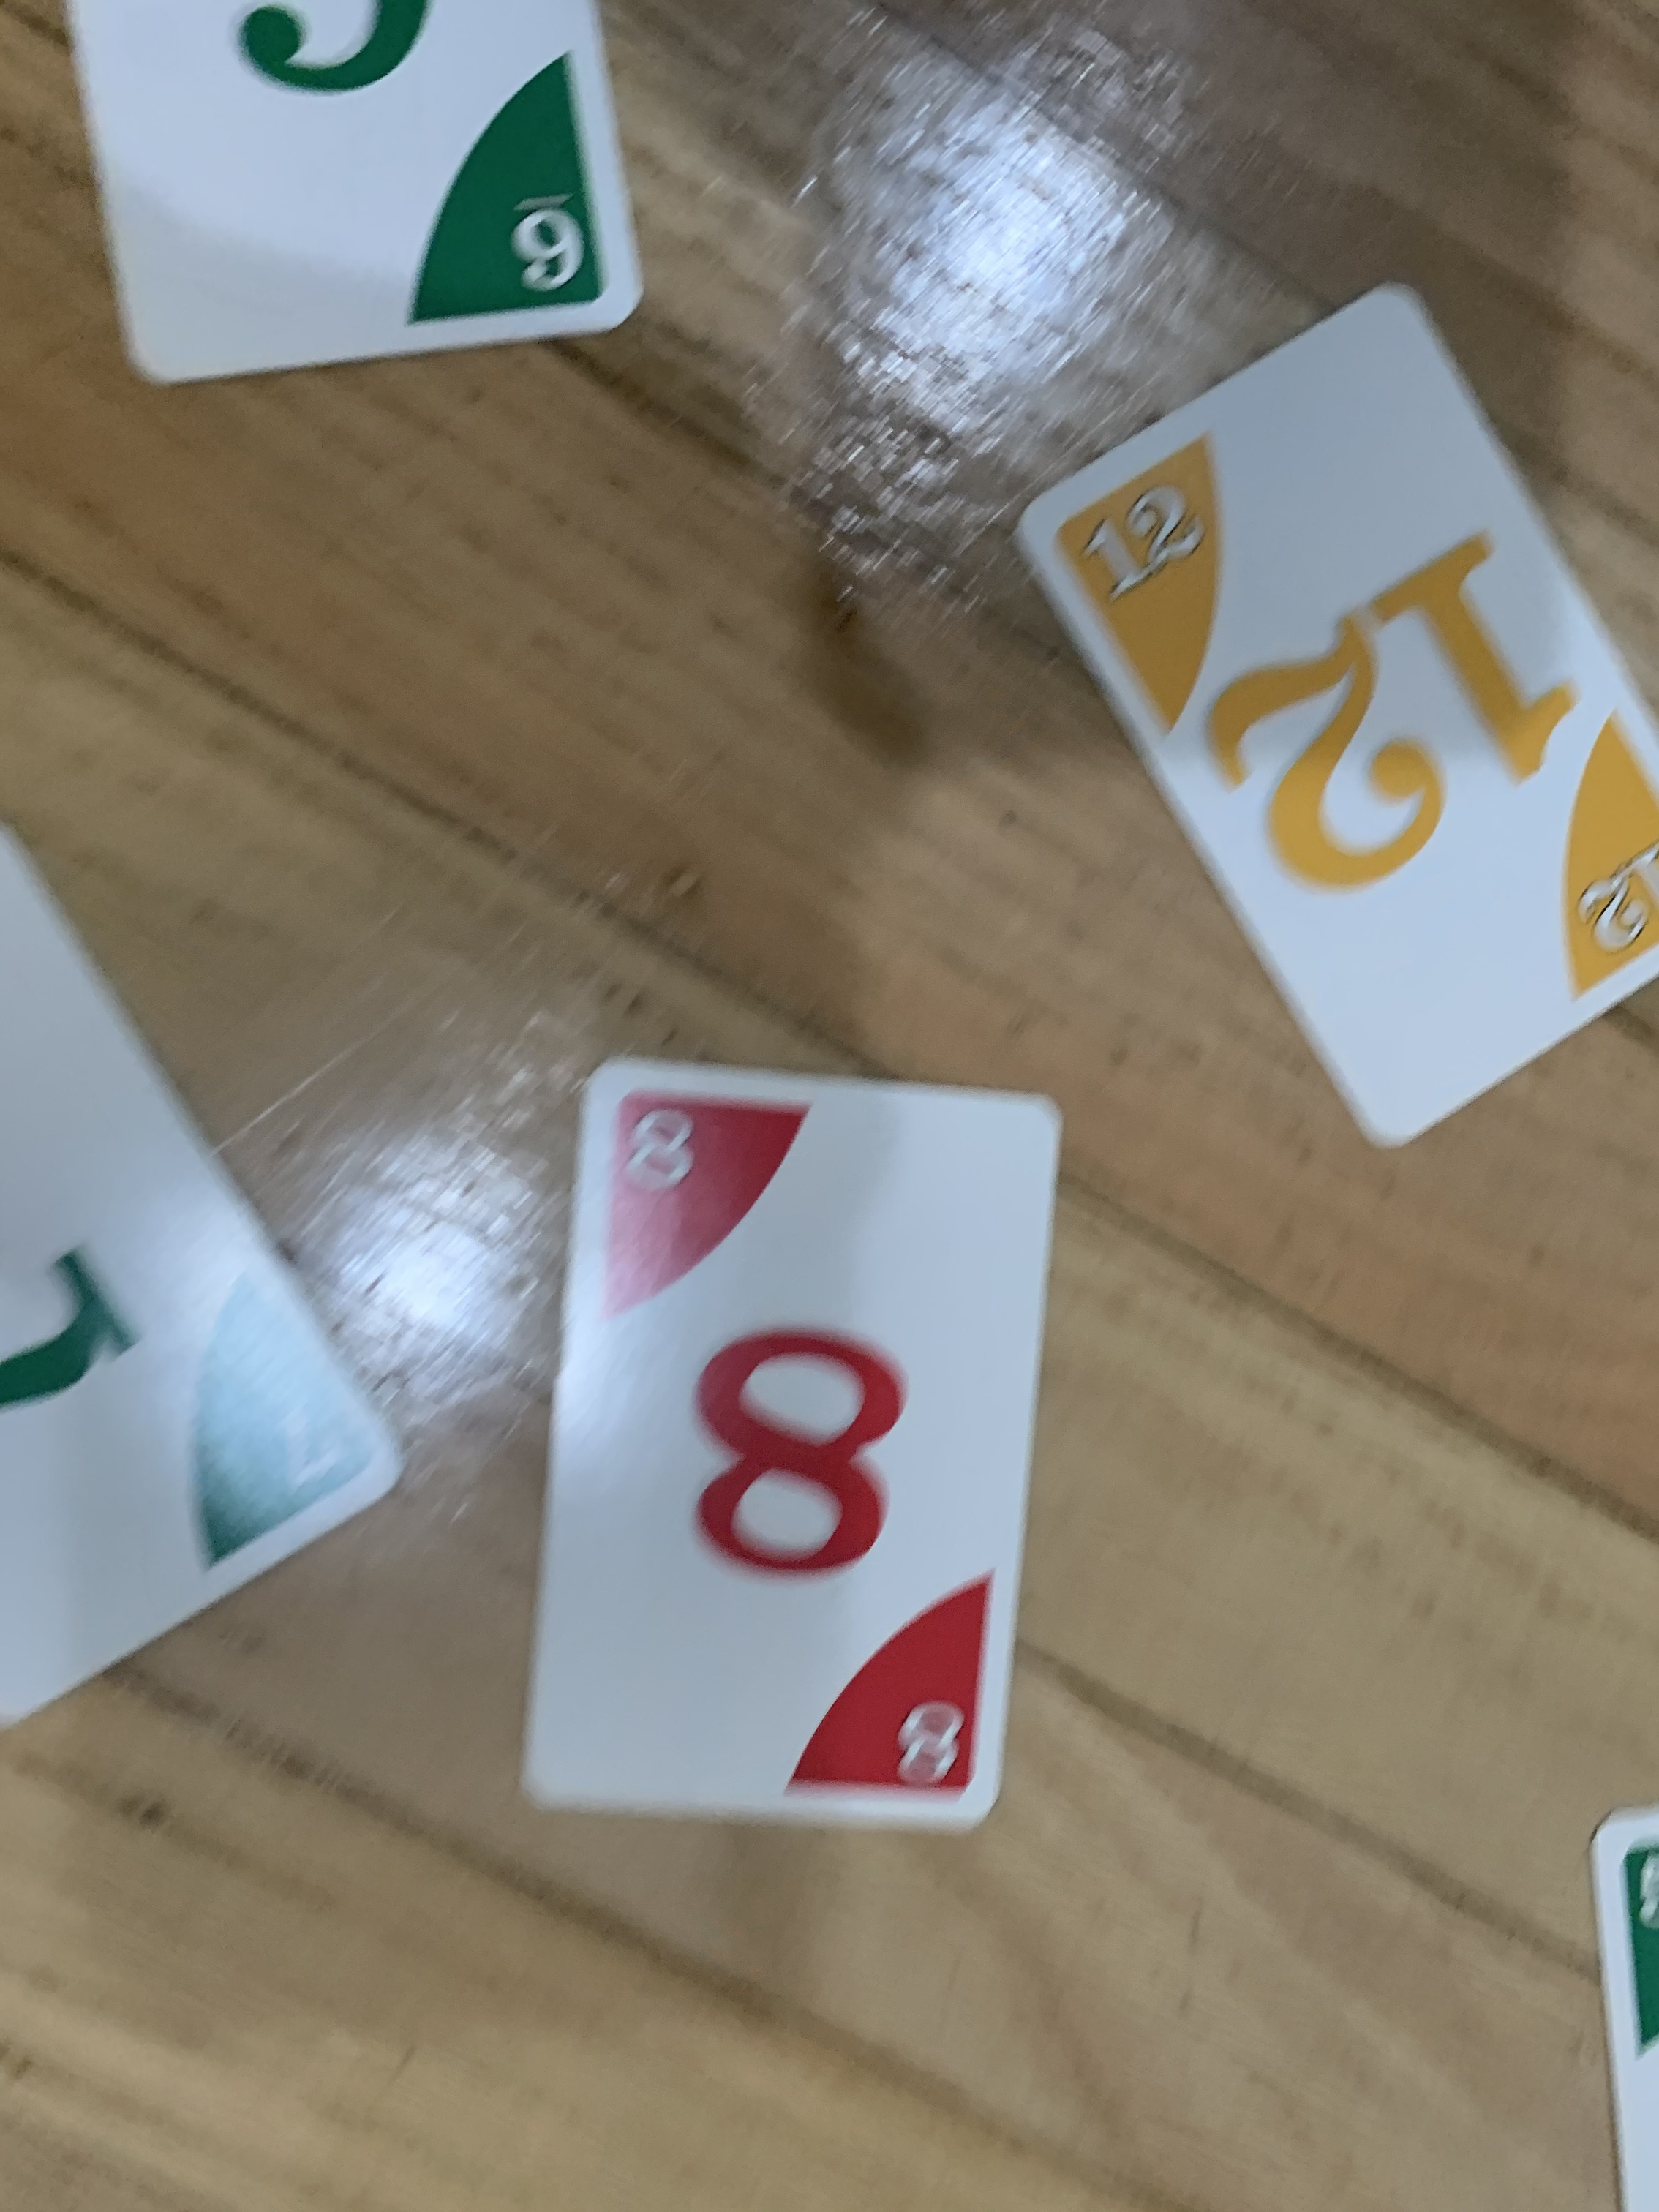eight: (495, 1047, 1056, 1848)
twelve: (1002, 260, 1659, 1165)
